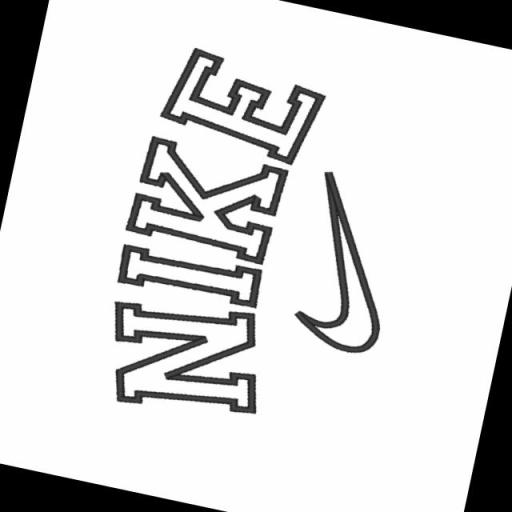Nike: (105, 43, 335, 423), (288, 170, 410, 359)
